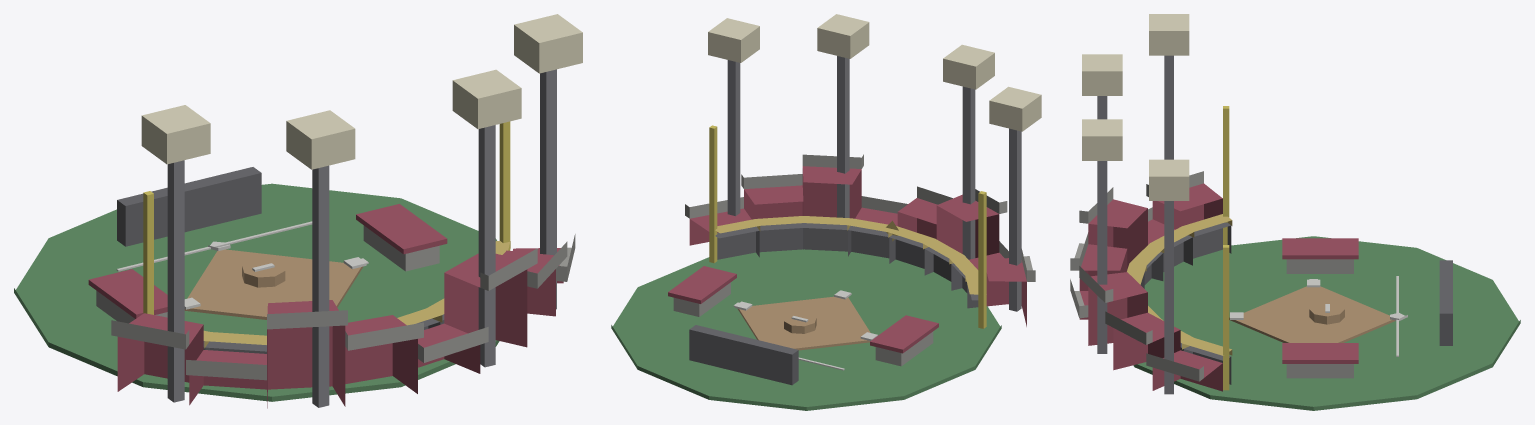
File: estadio.glb
3 renders of one model, left to right at view 1: azimuth 30°, elevation 25°; view 2: azimuth 150°, elevation 25°; view 3: azimuth 270°, elevation 25°, orthographic. The views are drawn at different scales.
Visible parts, largest first — view 1: estadio; view 2: estadio; view 3: estadio.
Boxes of the visible parts, x1,y1,x2,y2 form: estadio: (14, 14, 582, 408); estadio: (611, 14, 1041, 410); estadio: (1070, 14, 1520, 410).
Size of the model in its own units: 0.191 by 0.112 by 0.2002.
